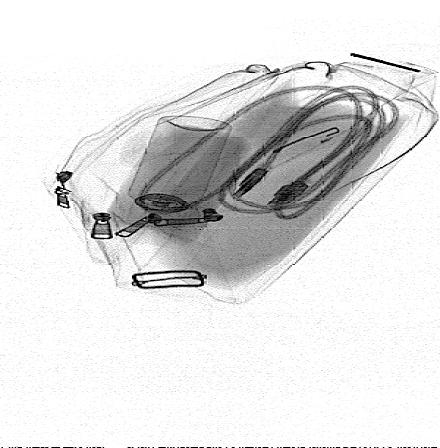Sprayer: (121, 115, 232, 237)
